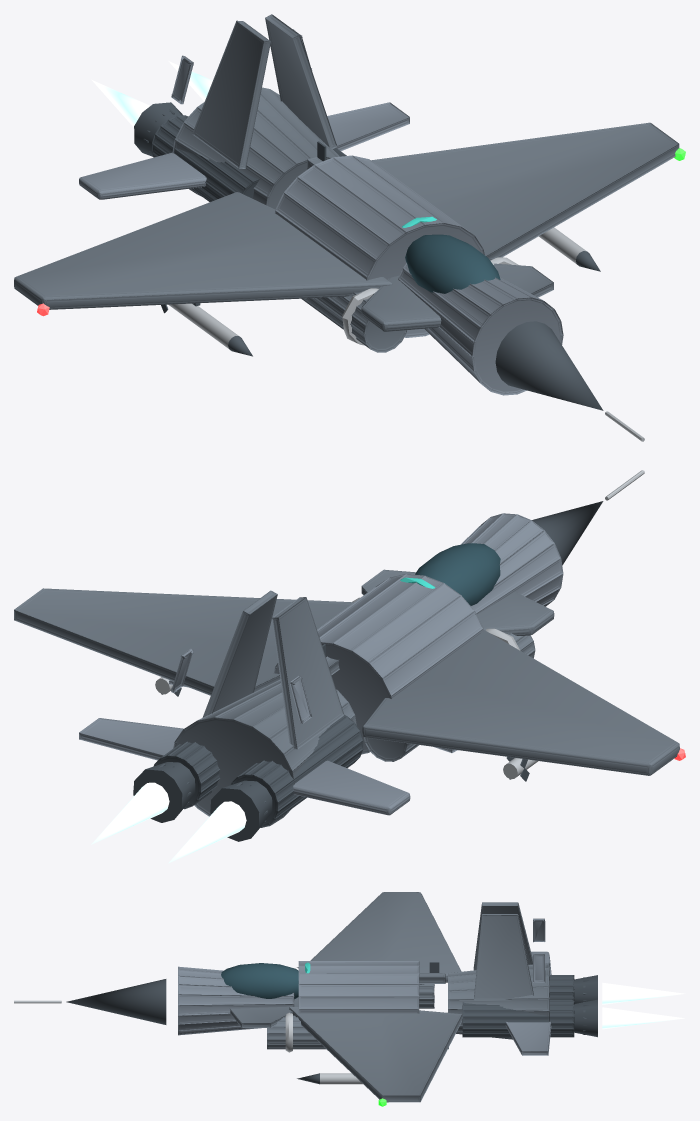
File: player_jet.glb
The picture shows the model from 3 angles, top to bottom: view 1: azimuth 30°, elevation 25°; view 2: azimuth 150°, elevation 25°; view 3: azimuth 270°, elevation 25°; orthographic projection. The views are drawn at different scales.
Visible parts, largest first — view 1: Airframe, FlameL; view 2: Airframe, FlameL, FlameR; view 3: Airframe, FlameL, FlameR.
Part boxes in pixels (<box>): Airframe: <box>14,14,679,441</box>; FlameL: <box>91,79,150,127</box>; Airframe: <box>14,470,679,841</box>; FlameL: <box>168,801,246,863</box>; FlameR: <box>91,782,169,844</box>; Airframe: <box>14,892,597,1102</box>; FlameL: <box>602,982,685,1004</box>; FlameR: <box>602,1007,684,1029</box>.
Size of what is drawn, in the model's own units: 8.75 by 2.56 by 12.03.
